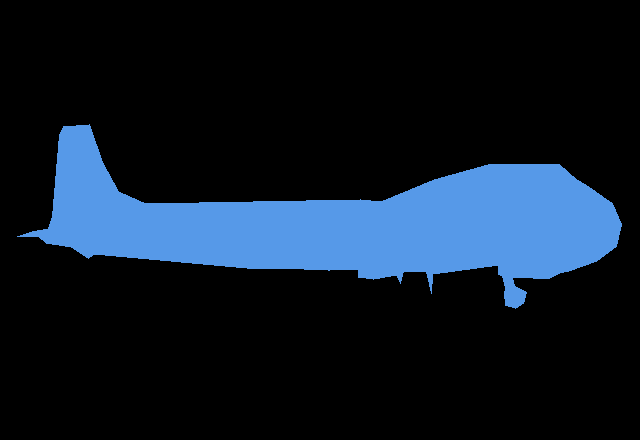Airplane: (17, 124, 621, 308)
